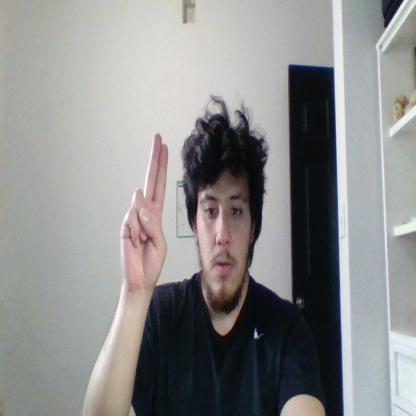U: (121, 133, 168, 289)
